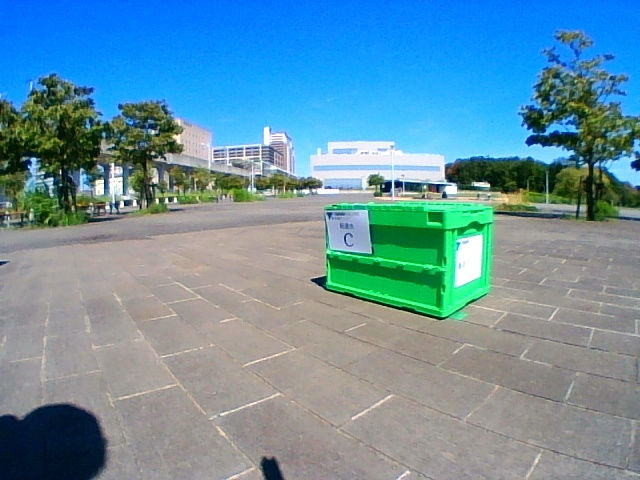green_box: (324, 201, 493, 318)
tag_c: (330, 210, 368, 249)
